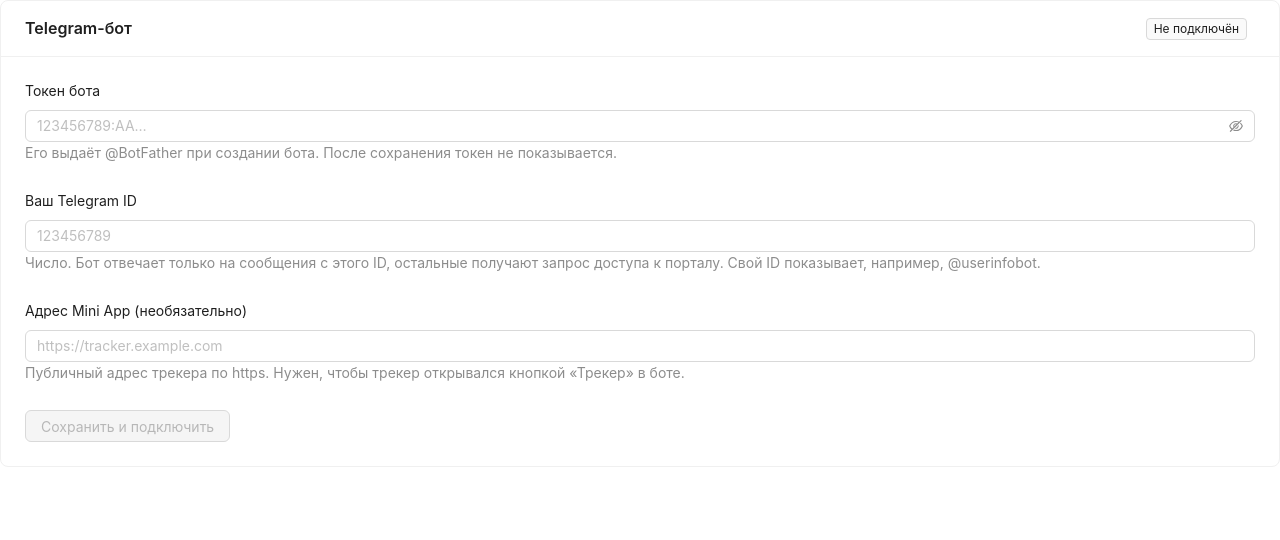
Test: Настройки: Telegram-бот › отправляет введённые значения и показывает, что бот подключён
Type "123456789:AAHdqTcvCH1vGWJxfSeofSAs0K5PALDsaw" into the password field labelled "Токен бота" at (631, 126), box [37,115,1225,137]
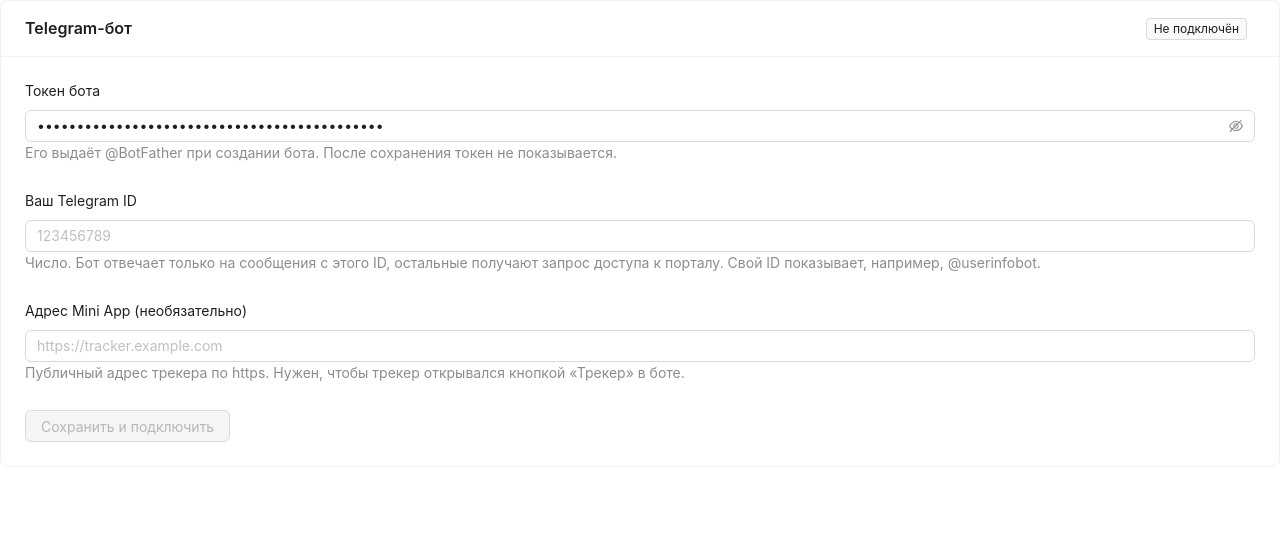
Type "42" into the field labelled "Ваш Telegram ID" at (640, 236), box [25,220,1255,252]
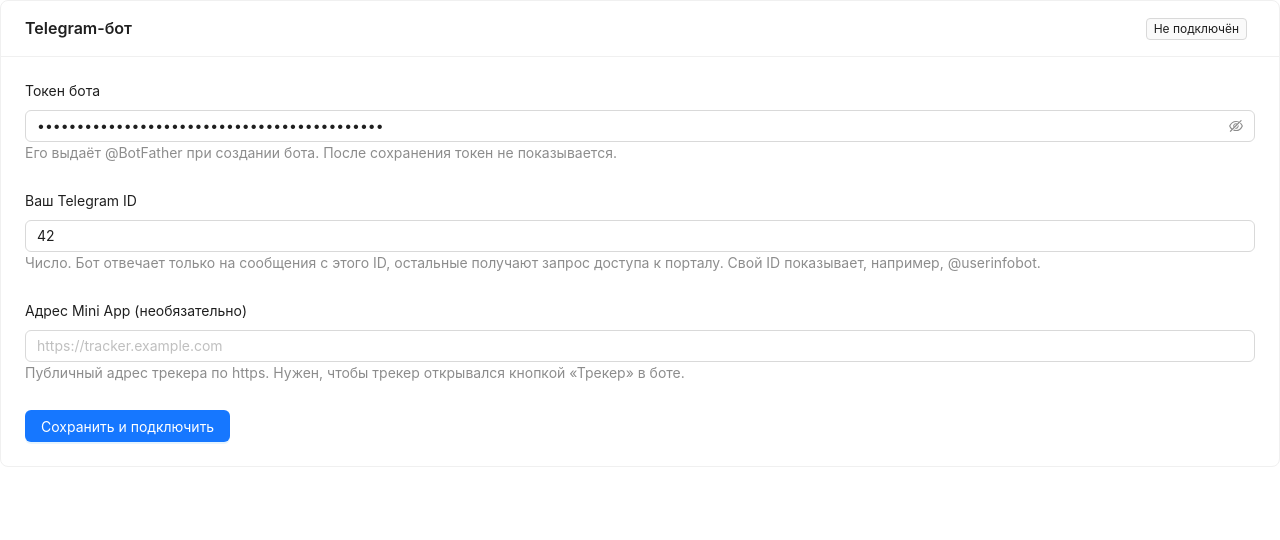
Click the button "Сохранить и подключить" at (128, 426), box [25,410,230,442]
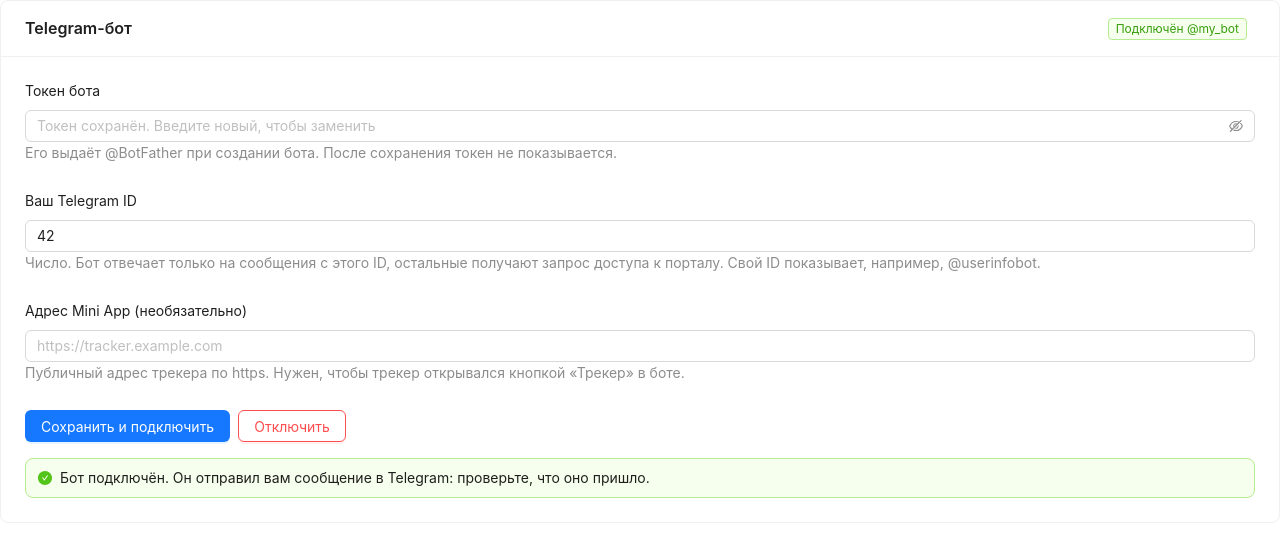
Expected: the text "Подключён @my_bot" is shown, [1108,18,1247,40]
Expected: the text "Он отправил вам сообщение" is shown, [60,469,650,486]
Expected: the password field labelled "Токен бота" is empty, [37,115,1225,137]
